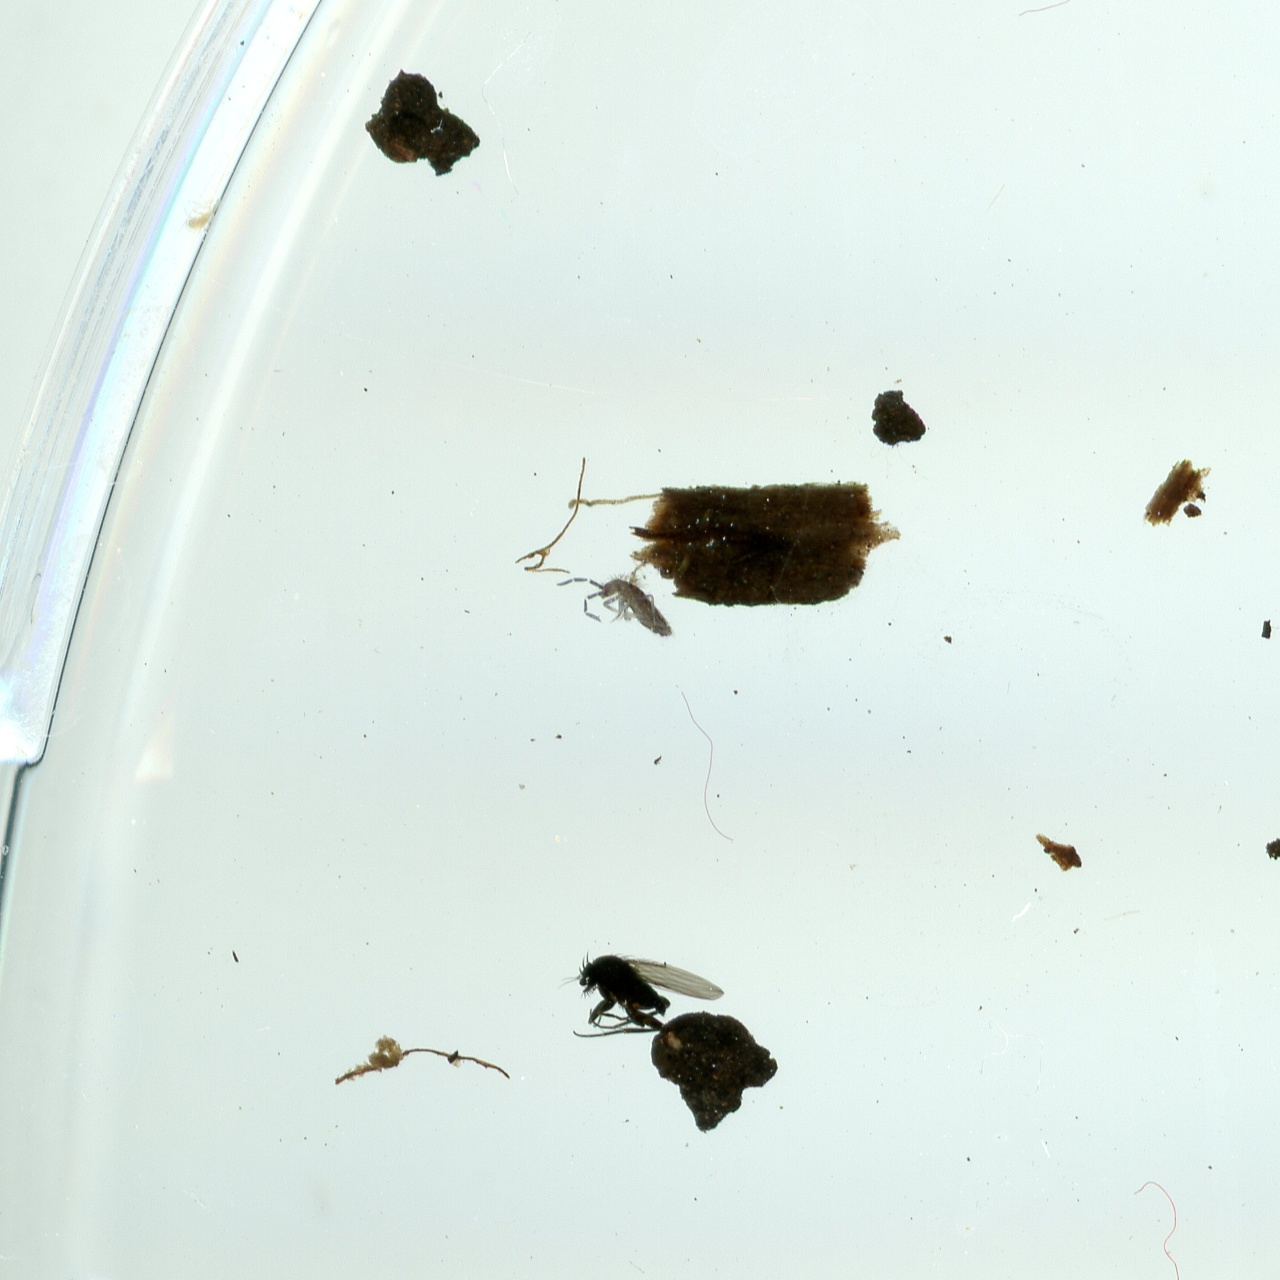arthropod: (554, 942, 726, 1048), (549, 571, 679, 641), (182, 202, 218, 237)
